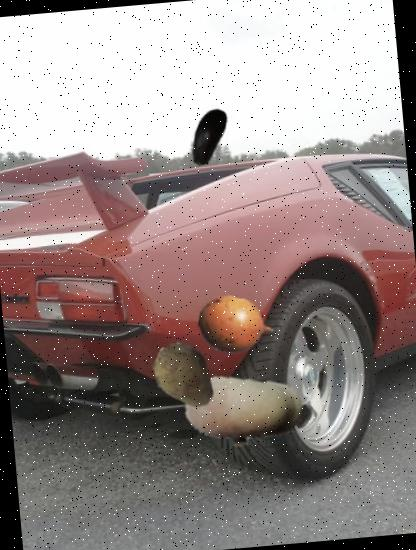Eggplant: (174, 103, 242, 171)
Granadilla: (195, 283, 280, 368)
Peach: (179, 348, 307, 476)
Potato: (146, 338, 224, 416)
